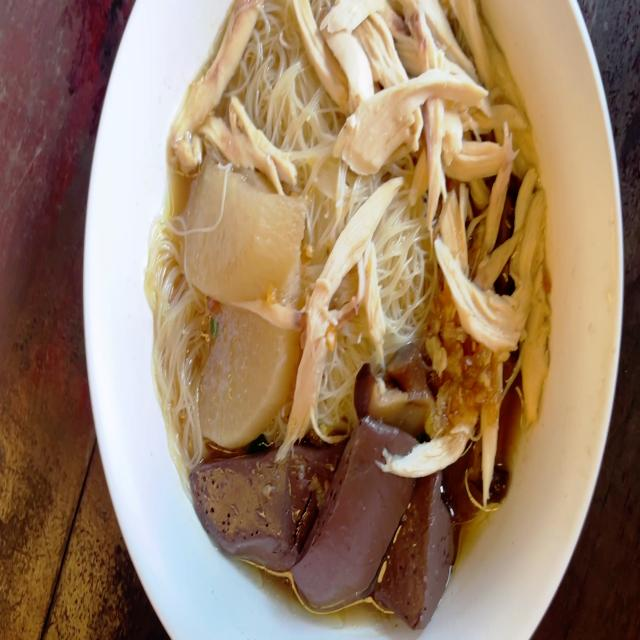boiled_chicken_blood_jelly: (304, 426, 429, 590), (189, 452, 315, 575), (392, 481, 459, 622)
chicken_shredded: (302, 0, 552, 480), (290, 176, 396, 444), (172, 2, 261, 158)
daikon_radish: (189, 151, 307, 301), (198, 306, 293, 450)
noodle: (151, 0, 547, 624)
